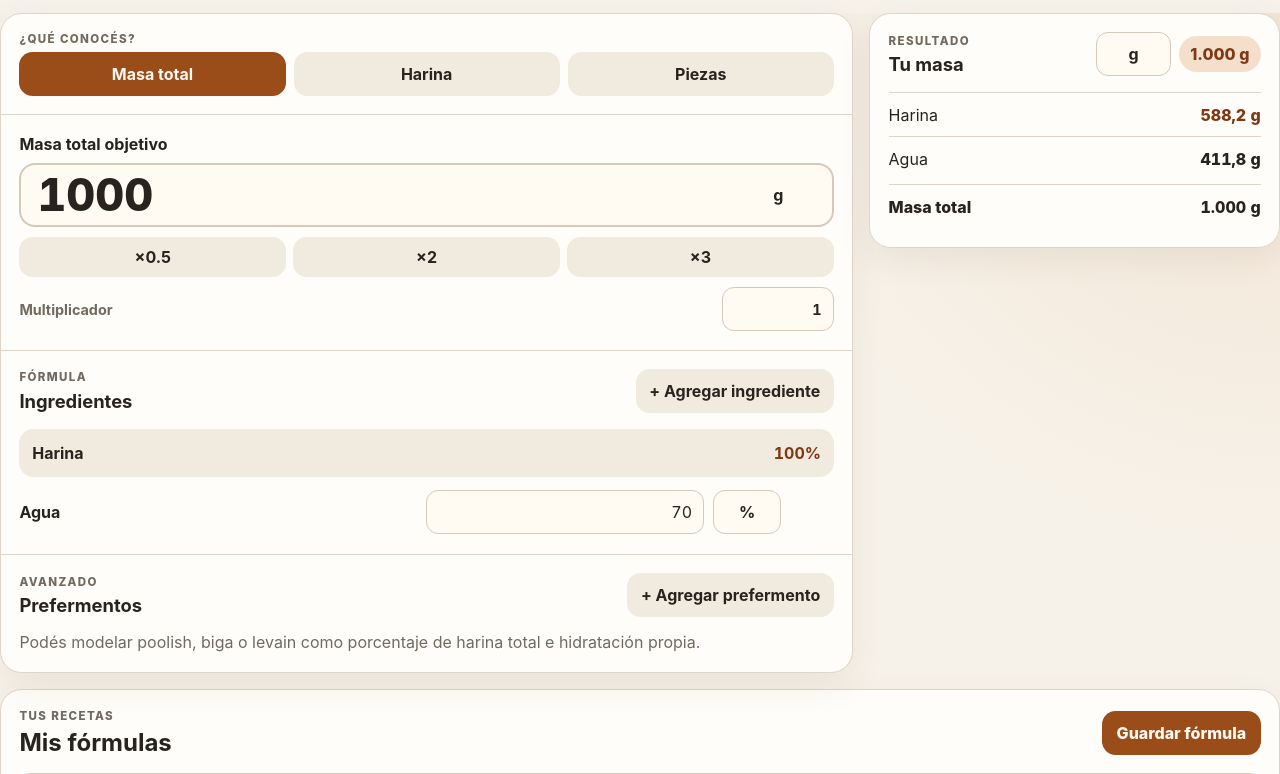
it: PresetList › requires an explicit confirmation before deleting a formula
Step 1. Click the button "Guardar fórmula" → click(1181, 733), box x1=1102 y1=711 x2=1261 y2=755
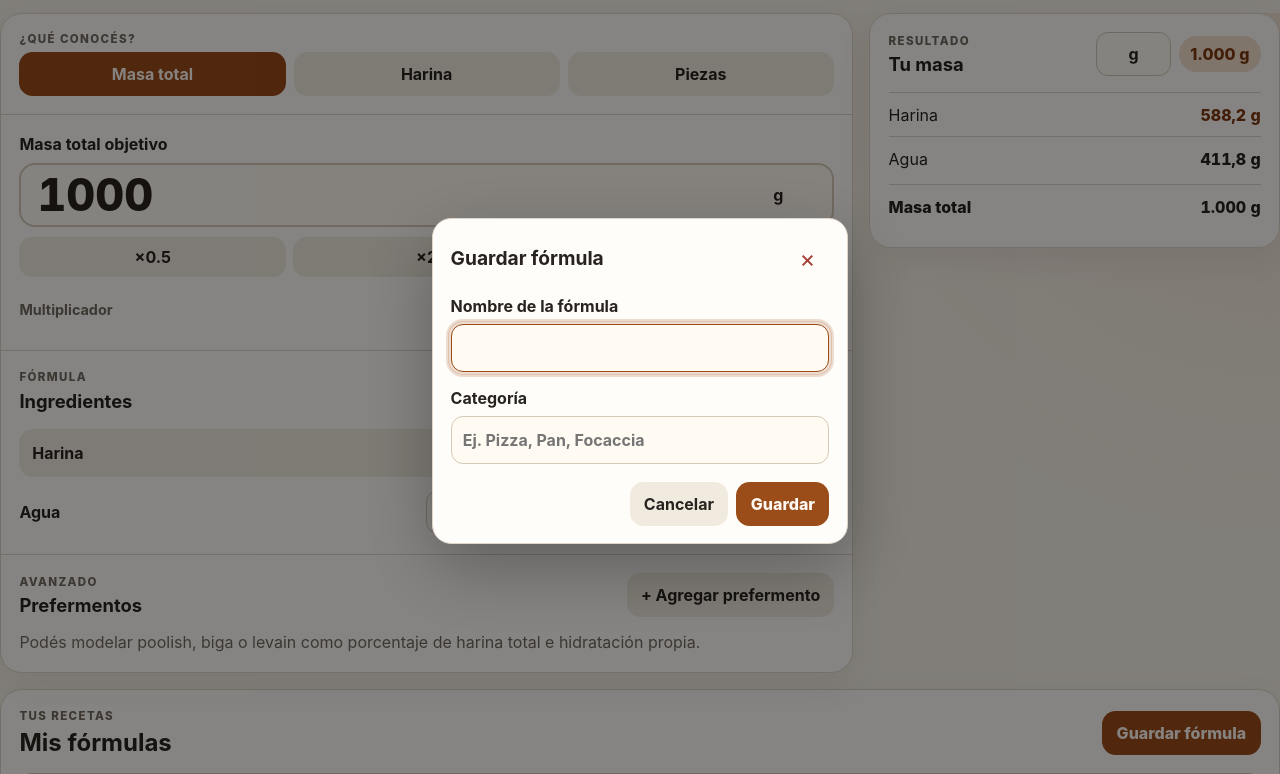
Step 2. Type "Pizza" into the field labelled "Nombre de la fórmula" → (640, 348), box x1=451 y1=324 x2=829 y2=372
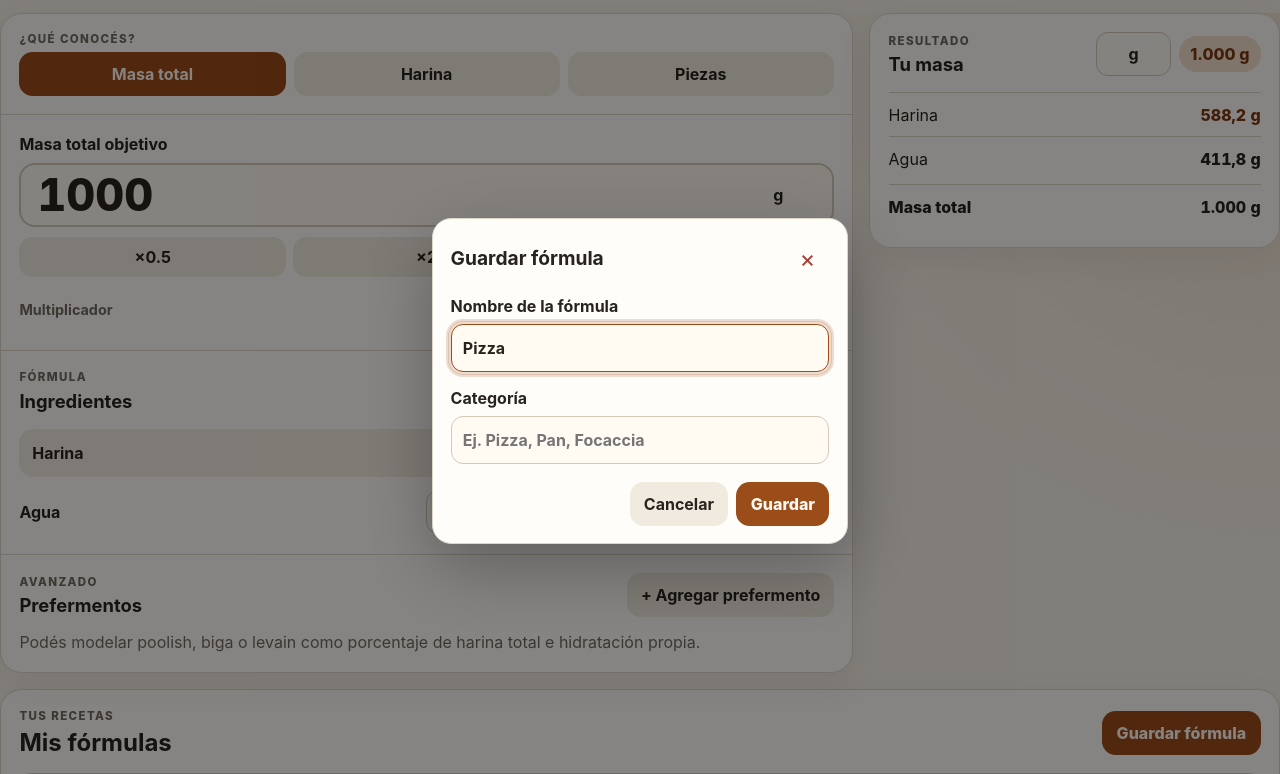
Step 3. Click the button "Guardar" → click(783, 504), box x1=736 y1=482 x2=829 y2=526
(page scrolled)
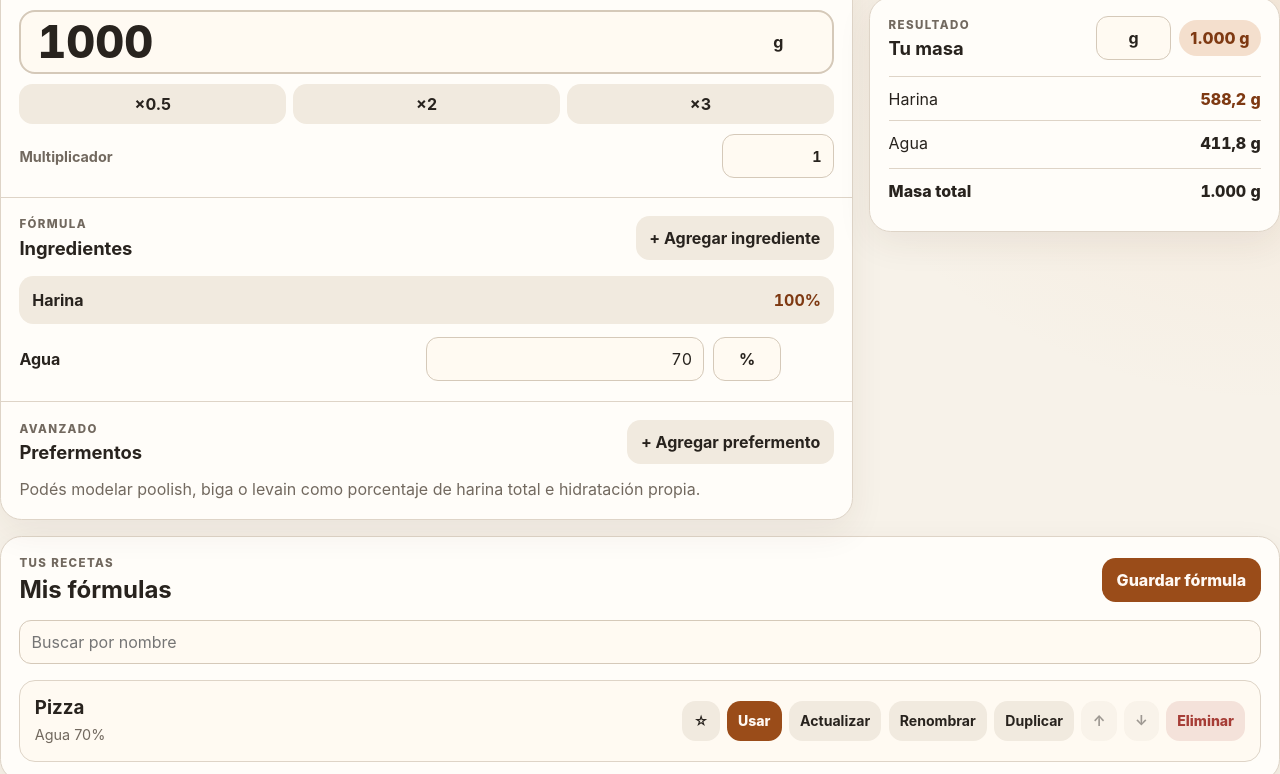
Step 4. Click the button with aria-label "Eliminar Pizza" → click(1206, 721), box x1=1166 y1=701 x2=1245 y2=741
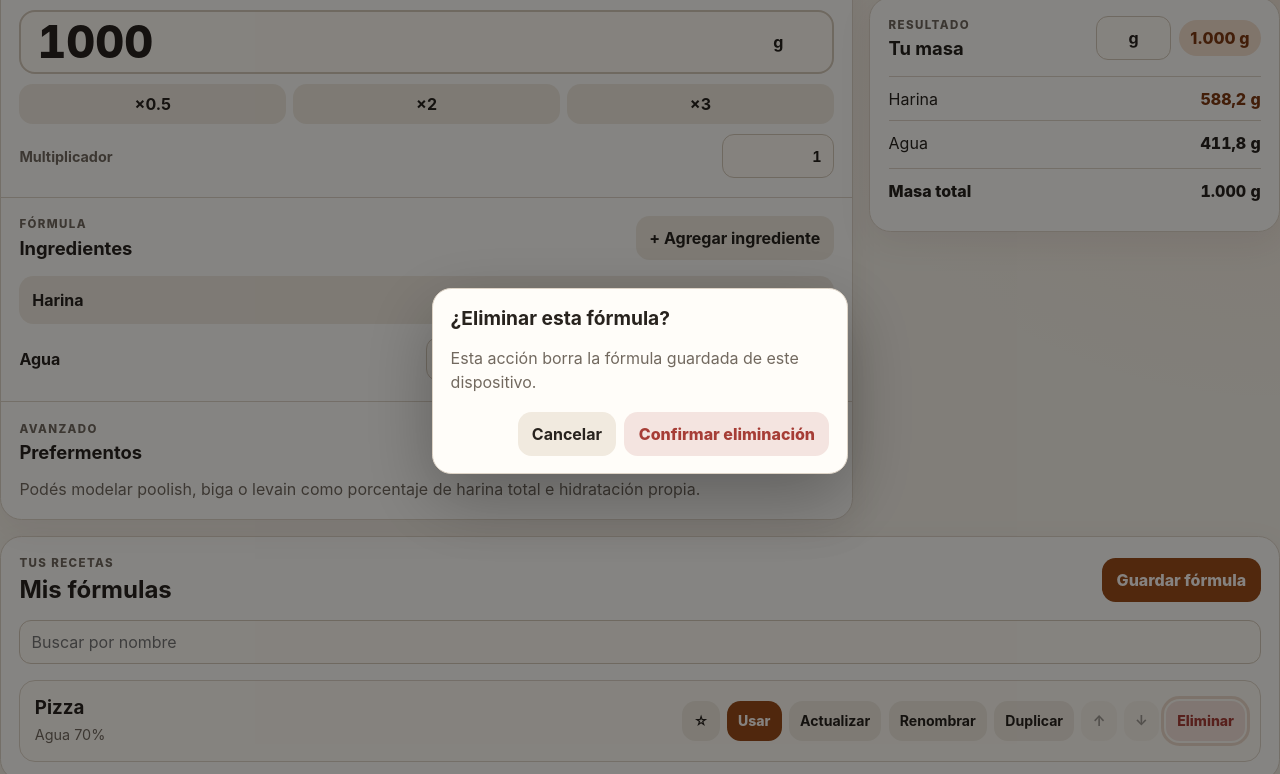
Expected: the heading "Pizza" is shown, x1=35 y1=696 x2=84 y2=719
Expected: the dialog named "Eliminar fórmula" is shown, x1=432 y1=288 x2=848 y2=474
Step 5. Click the button "Confirmar eliminación" → click(727, 434), box x1=624 y1=412 x2=829 y2=456
(page scrolled)
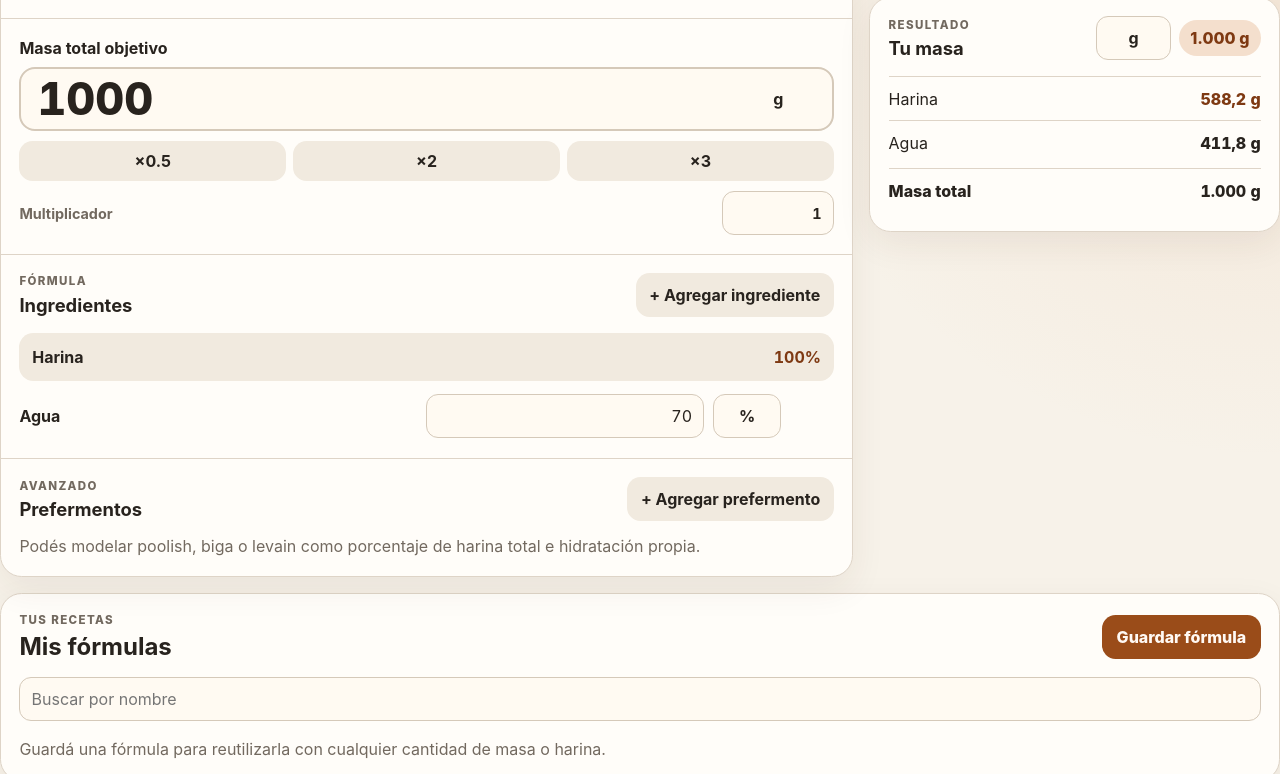
Expected: the heading "Pizza" is gone
